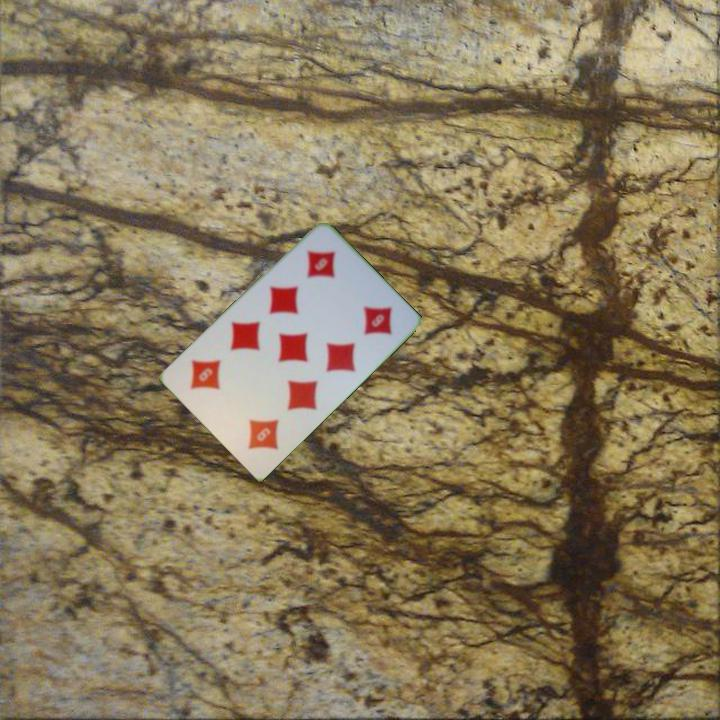d_9.png: (281, 231, 367, 317), (214, 381, 300, 467)
